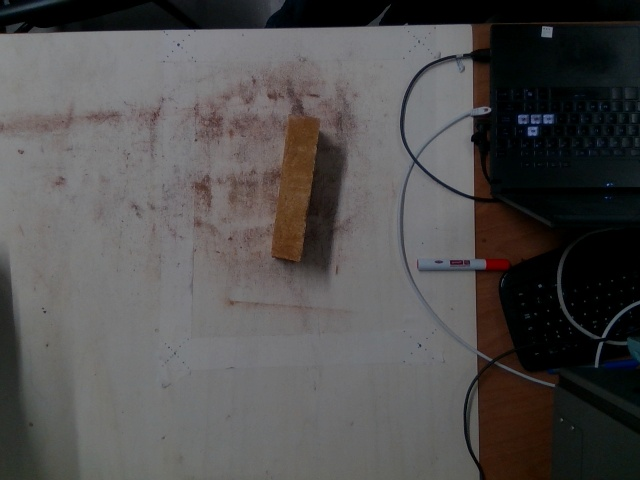brick-side: (270, 114, 320, 257)
